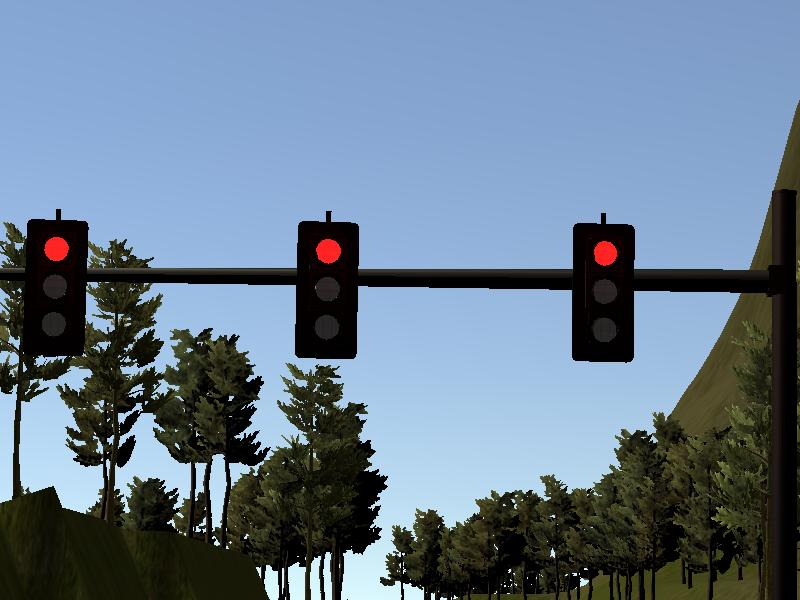red: (571, 221, 636, 363), (25, 219, 86, 357), (297, 219, 356, 360)
